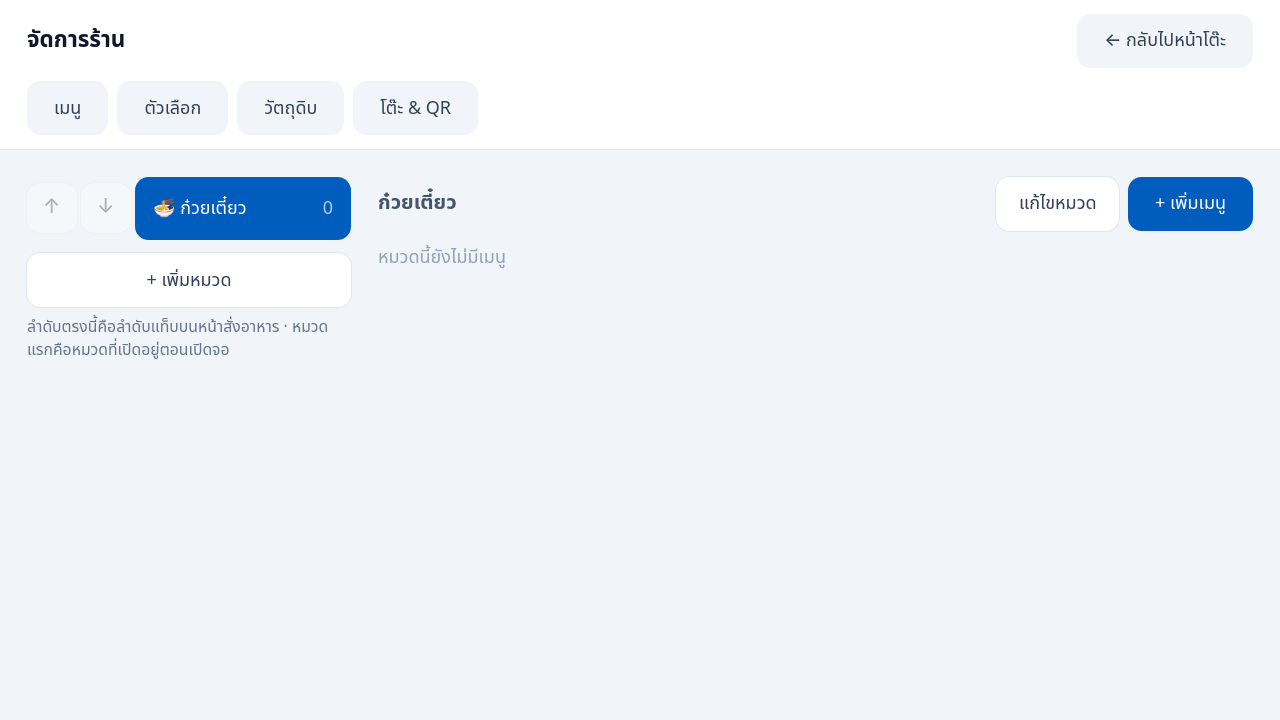
it: categories › will not save a category with no name
Expected: the navigation bar "หมวด" is shown, top-left (27, 176), bottom-right (351, 361)
Click the button "+ เพิ่มหมวด": (189, 280) top-left (27, 253), bottom-right (351, 307)
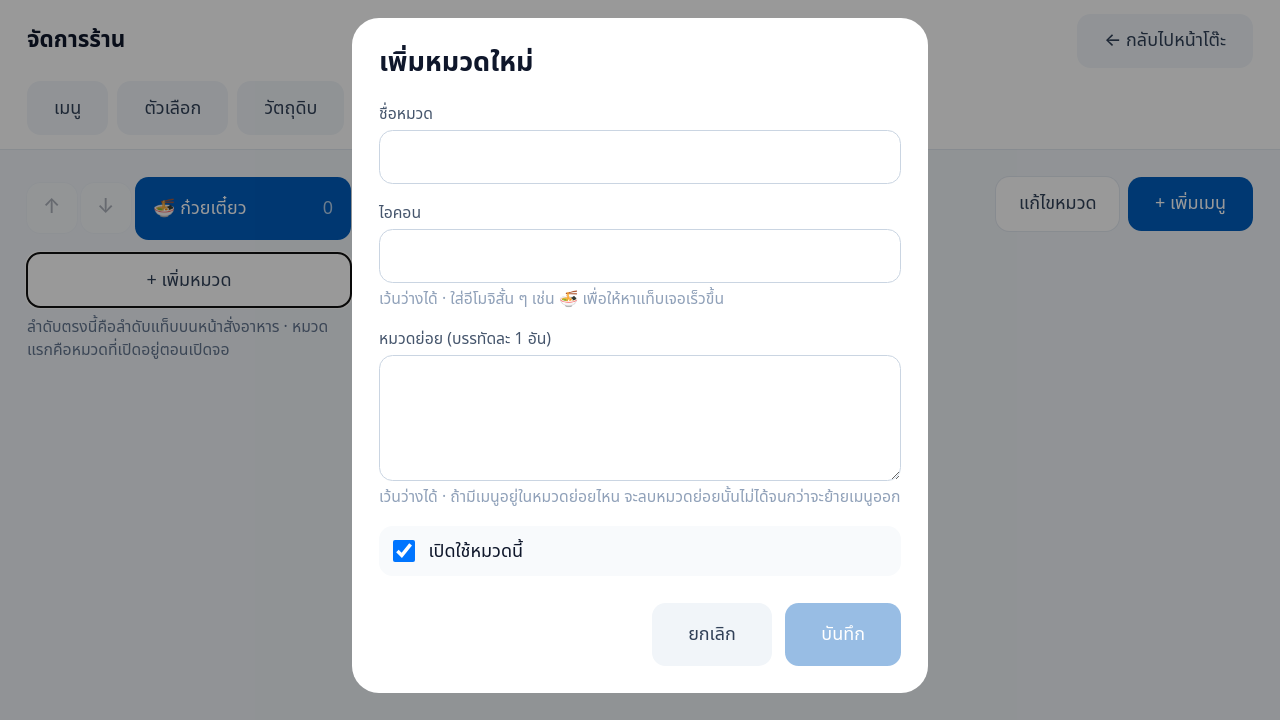
Expected: the button "บันทึก" is disabled, top-left (785, 603), bottom-right (901, 666)
